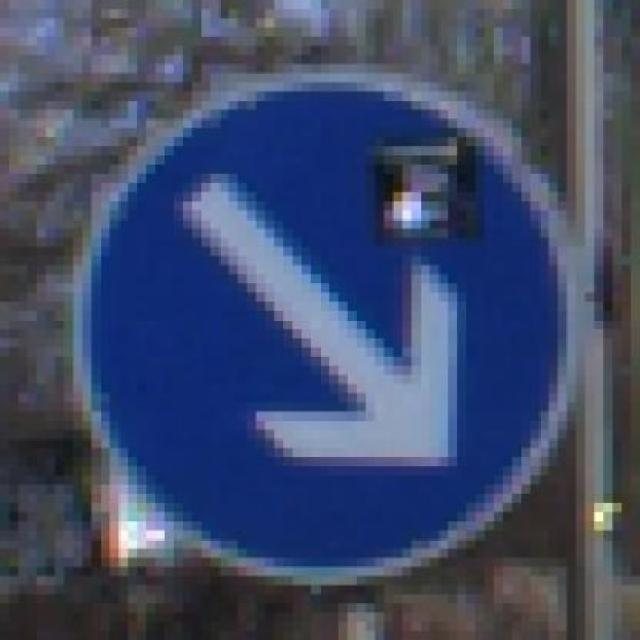Keep-Right: (64, 55, 613, 603)
